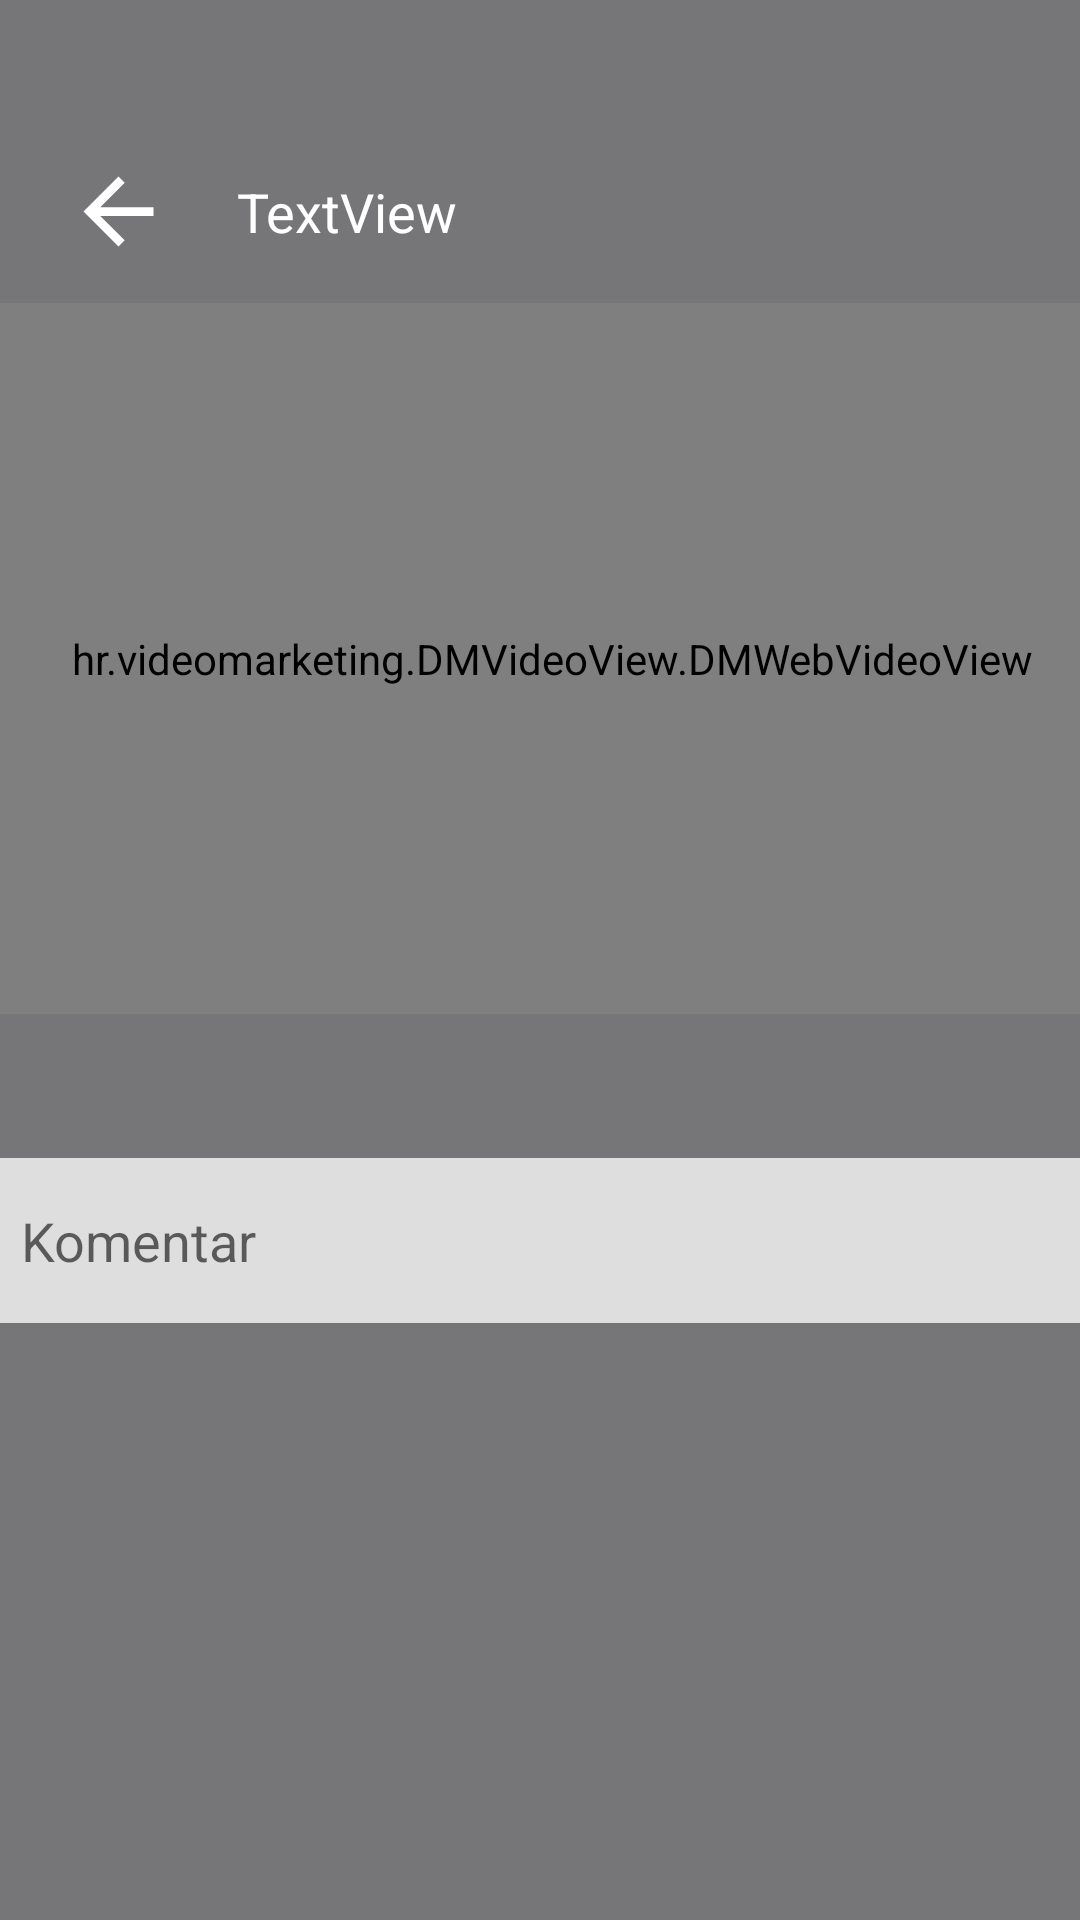

Icons on this 1080*1920 Android screen, each with its box as {"x1": x1, "y1": y1, "x2": x2, "y2": y2}:
left arrow: {"x1": 83, "y1": 176, "x2": 154, "y2": 247}
